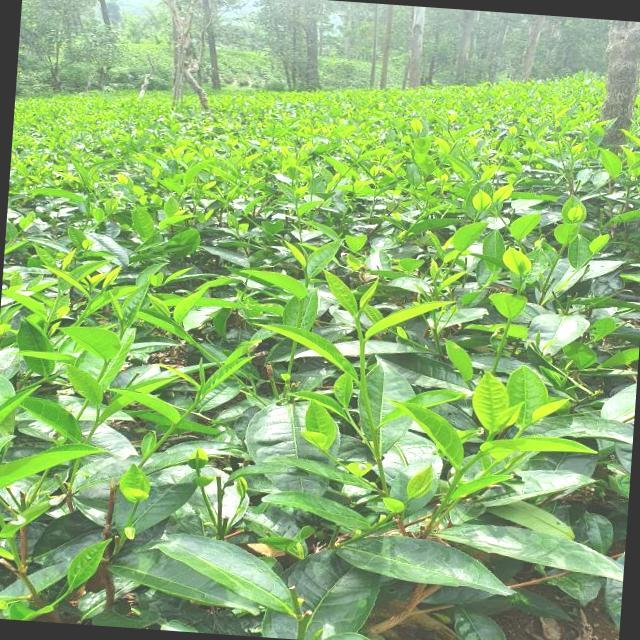Stem: (457, 470, 462, 476), (355, 317, 359, 323), (195, 399, 200, 403)
